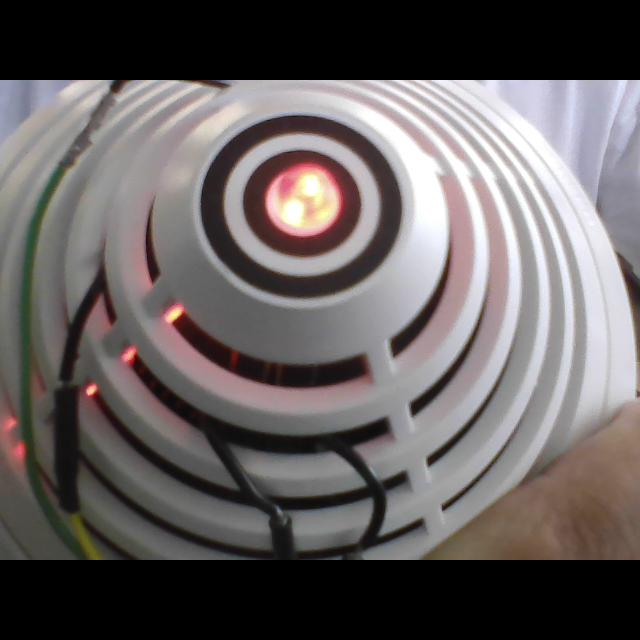Smoke-Detector: (1, 80, 634, 560)
